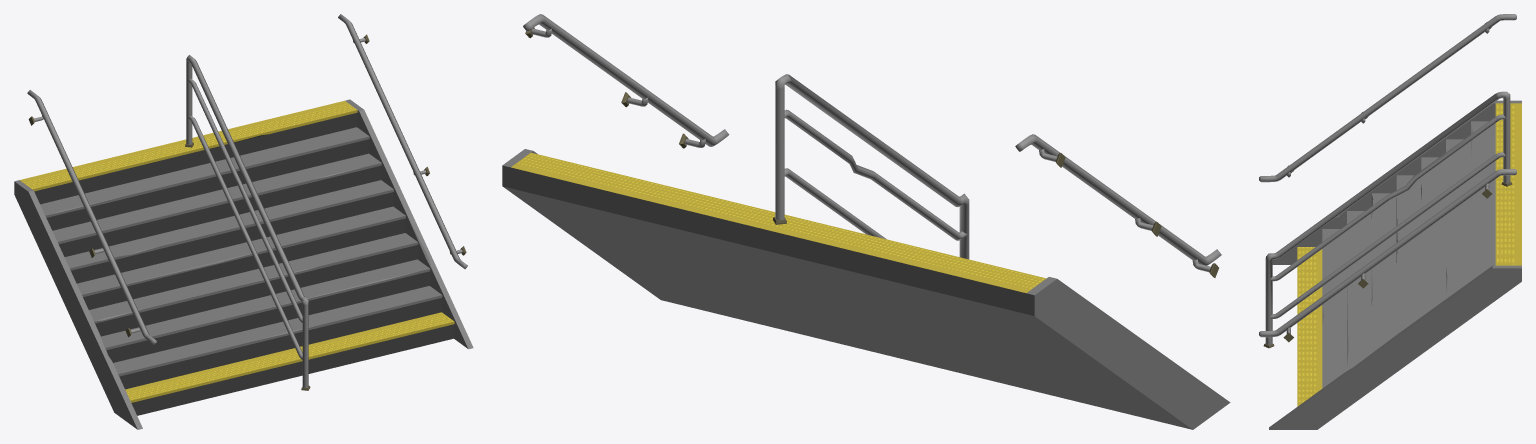
File: SW_ENV_StationStair_Mid_FF.fbx
The picture shows the model from 3 angles, left to right: view 1: azimuth 30°, elevation 25°; view 2: azimuth 150°, elevation 25°; view 3: azimuth 270°, elevation 25°; orthographic projection. The views are drawn at different scales.
Parts seen in each view (by area): view 1: SW_ENV_StationStair_Mid_FF; view 2: SW_ENV_StationStair_Mid_FF; view 3: SW_ENV_StationStair_Mid_FF.
Part boxes in pixels (<box>): SW_ENV_StationStair_Mid_FF: <box>14,14,473,429</box>; SW_ENV_StationStair_Mid_FF: <box>502,14,1230,429</box>; SW_ENV_StationStair_Mid_FF: <box>1259,14,1521,429</box>.
Size of the model in its own units: 4 by 2.84 by 2.65.
